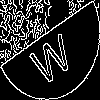W: (25, 24, 75, 87)
